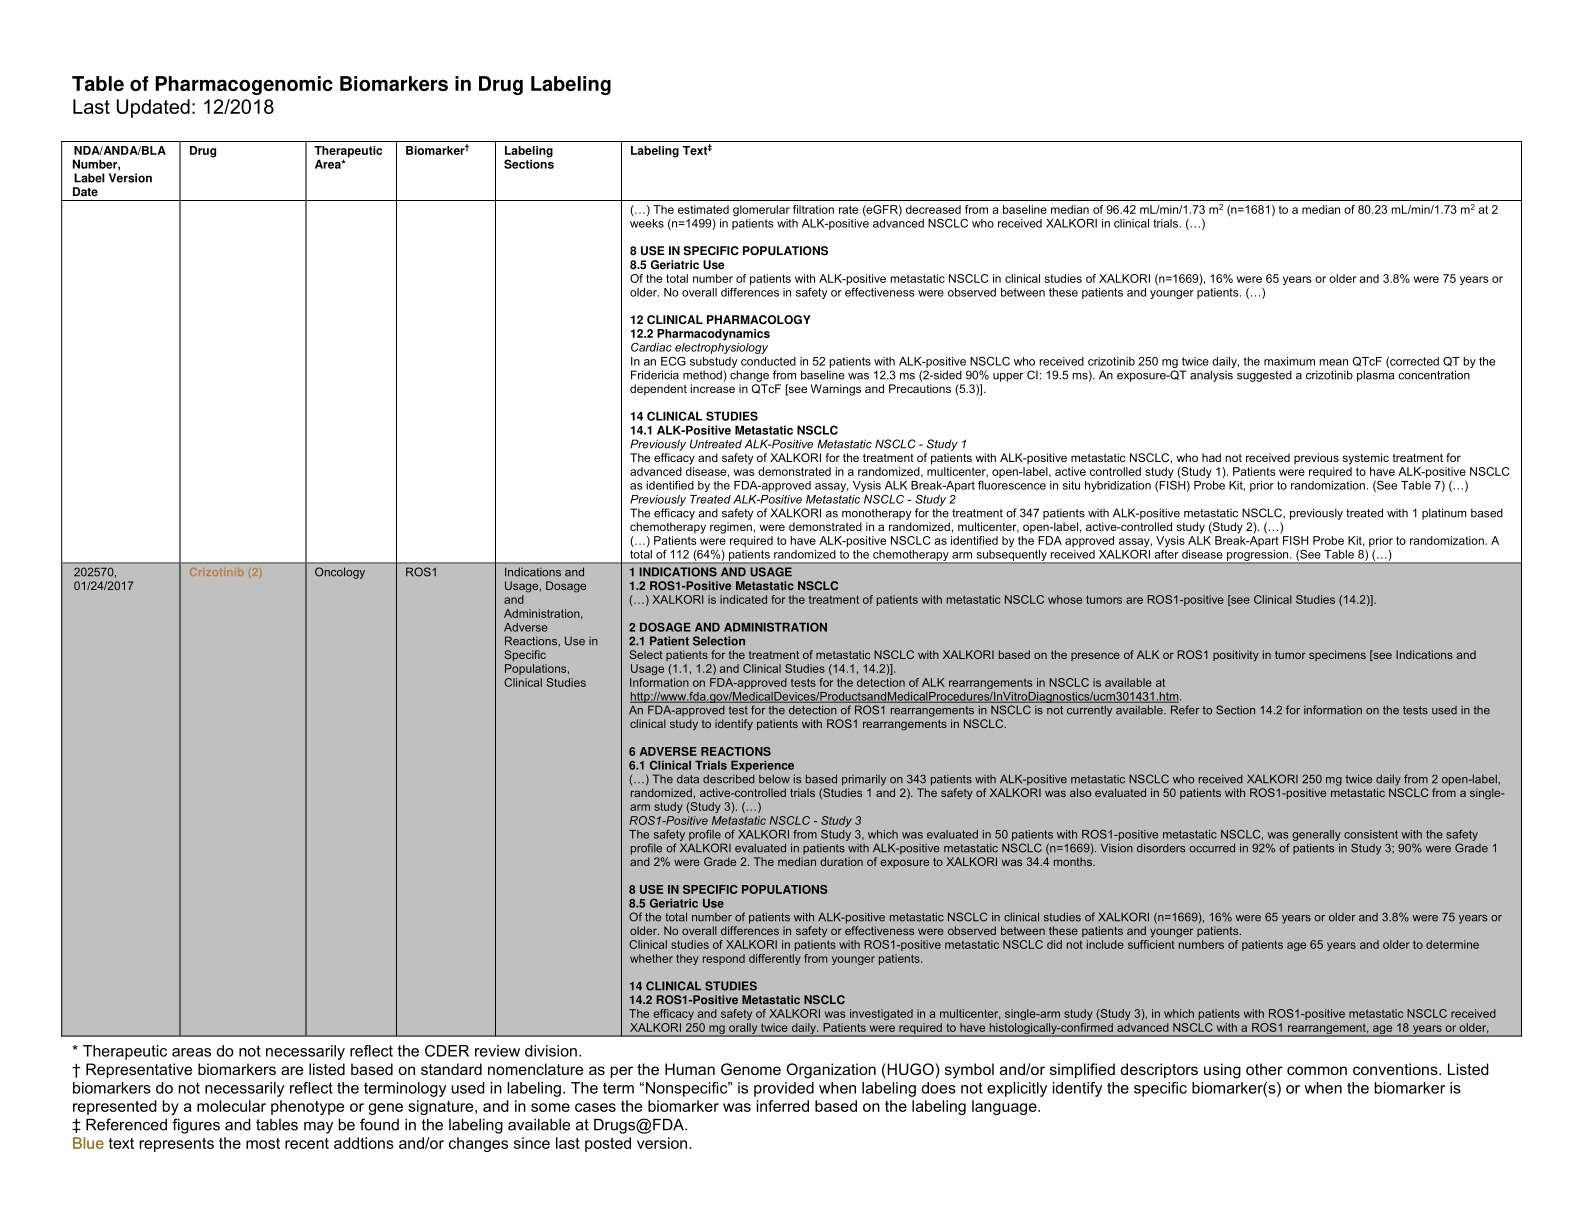full_lined: (57, 129, 1535, 1041)
